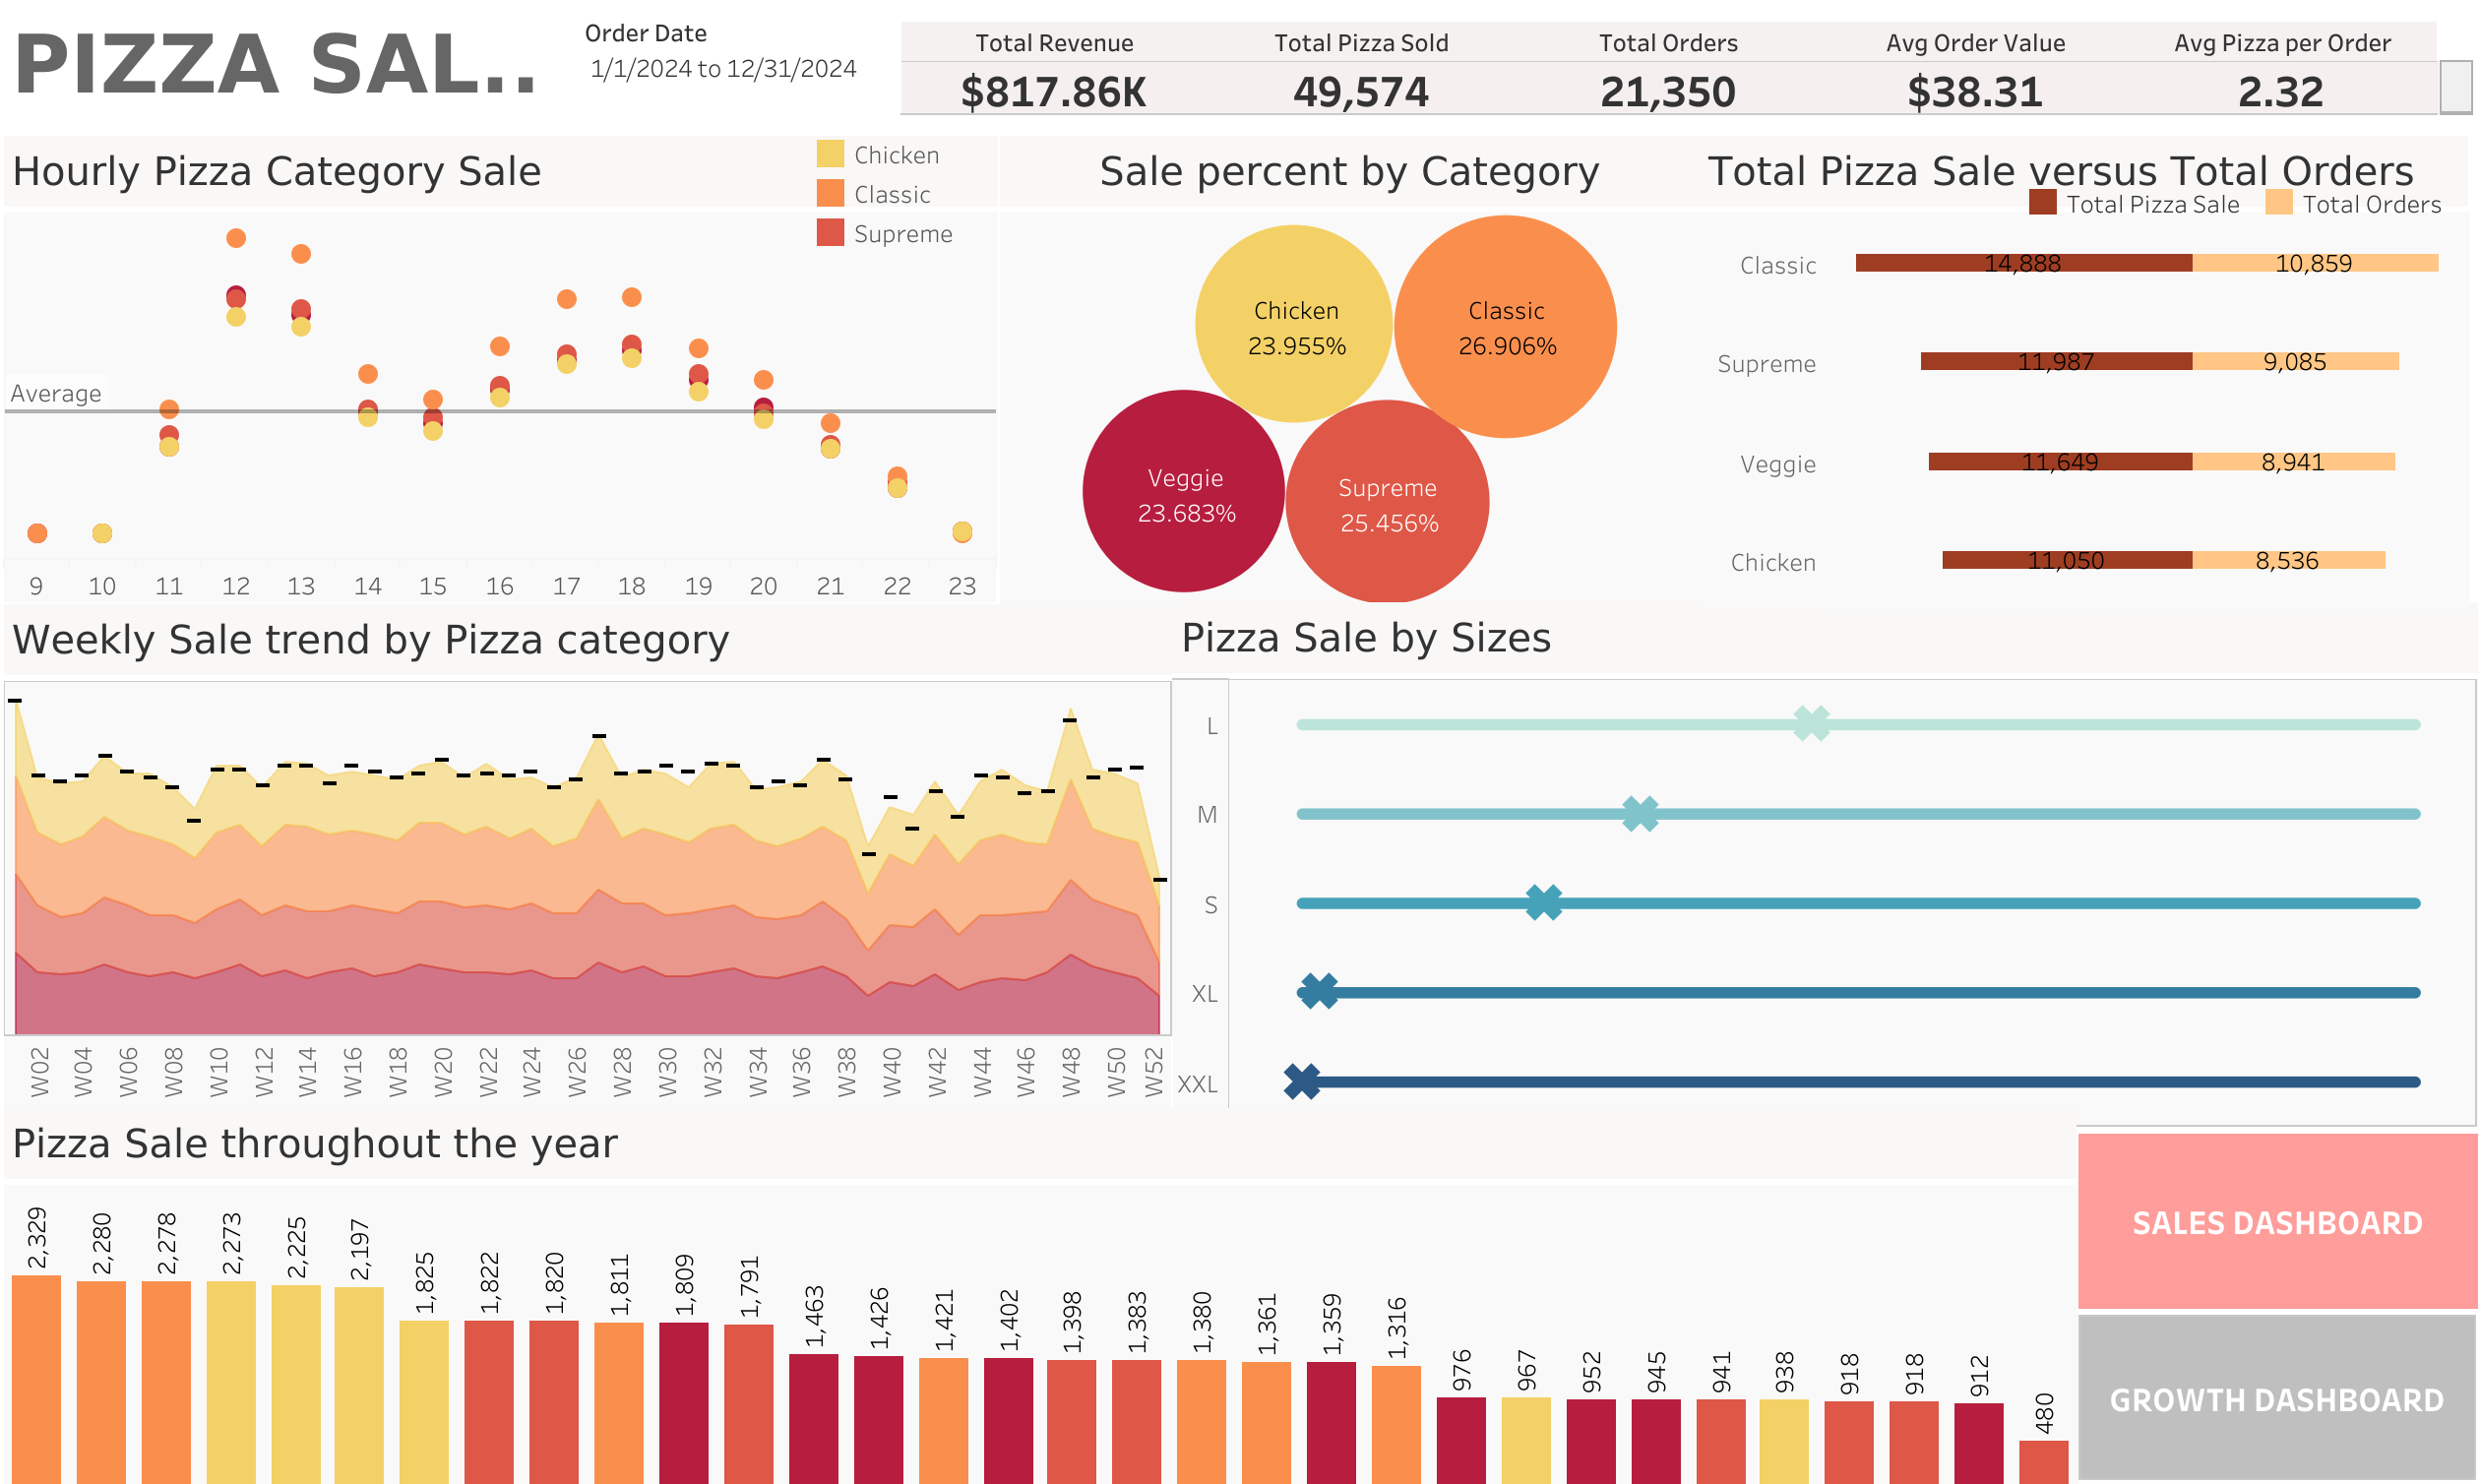

This screenshot's page, from the dashboard's own definition file:
{"tool":"tableau","page":{"name":"salesdash","canvas":[1000,1000],"units":"permille","ordinal":1},"visuals":[{"type":"filter","title":"KPIs","param":"[federated.0m5pwt50i0kq8q12h5urp1g4rpb7].[none:order_date:qk]","box":[235.8,7.6,122,77.4]},{"type":"worksheet","title":"KPIs","mark":"Text","box":[363.4,15.2,633.3,63.5]},{"type":"legend","title":"hourly pizza category sale","param":"[federated.0m5pwt50i0kq8q12h5urp1g4rpb7].[none:pizza_category:nk]","box":[326.7,90.6,76.5,101.6]},{"type":"worksheet","title":"hourly pizza category sale","mark":"Circle","rows":["quantity"],"cols":["order_time"],"box":[1.5,91.8,400.9,313.3]},{"type":"worksheet","title":"percent sale by pizza","mark":"Circle","box":[402.8,91.8,282.1,314.6]},{"type":"worksheet","title":"total pizza sold vs total orders","mark":"Automatic","rows":["pizza_category"],"box":[684.9,91.8,309.8,318.2]},{"type":"worksheet","title":"pizza size sale percent","mark":"Line","rows":["pizza_size"],"box":[472.8,405.1,525.6,353.7]},{"type":"worksheet","title":"weelly sale trend","mark":"Area","rows":["Calculation_2167990708010500097","Calculation_2167990708010500097"],"cols":["order_date"],"box":[1.5,406.4,471.2,340.3]},{"type":"worksheet","title":"Sheet 8","mark":"Automatic","rows":["Calculation_2167990708010500097"],"cols":["pizza_name"],"box":[1.6,746.2,835,252.5]},{"type":"dashboard-object","box":[837.4,762.7,161,118]},{"type":"dashboard-object","box":[837.4,884.5,160.2,111.7]}]}

Visuals, with their boxes on the dashboard's canvas, which has no fixed pixel size, in thousandths of its width and height (x1, y1, x2, y2). These are canvas units, not pixel positions in the 2480x1484 screenshot, which may show the page scaled, cropped or inside an application window:
"KPIs" filter: region(236, 8, 358, 85)
"KPIs" worksheet (Text marks): region(363, 15, 997, 79)
"hourly pizza category sale" legend: region(327, 91, 403, 192)
"hourly pizza category sale" worksheet (Circle marks): region(2, 92, 402, 405)
"percent sale by pizza" worksheet (Circle marks): region(403, 92, 685, 406)
"total pizza sold vs total orders" worksheet: region(685, 92, 995, 410)
"pizza size sale percent" worksheet (Line marks): region(473, 405, 998, 759)
"weelly sale trend" worksheet (Area marks): region(2, 406, 473, 747)
"Sheet 8" worksheet: region(2, 746, 837, 999)
dashboard-object: region(837, 763, 998, 881)
dashboard-object: region(837, 884, 998, 996)
